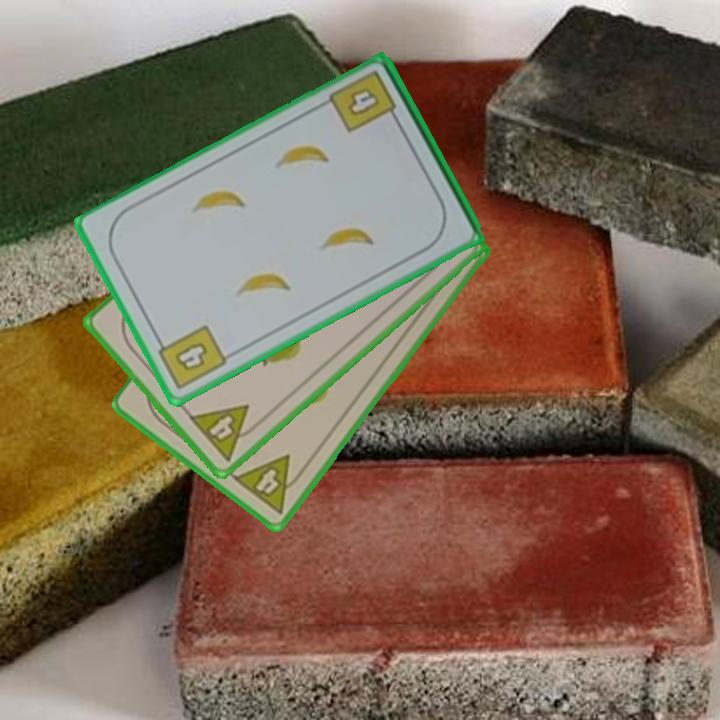4b: (152, 321, 230, 393), (325, 67, 402, 137)
4p: (229, 451, 310, 517), (185, 401, 266, 465)
